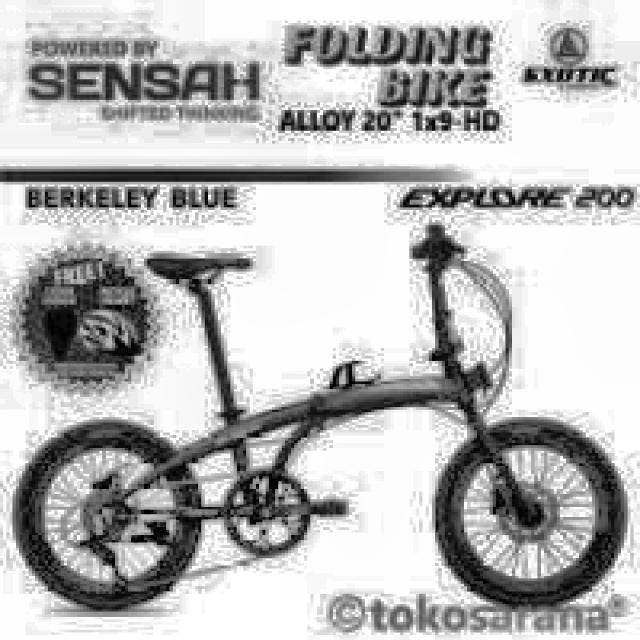bike: (16, 217, 622, 621)
